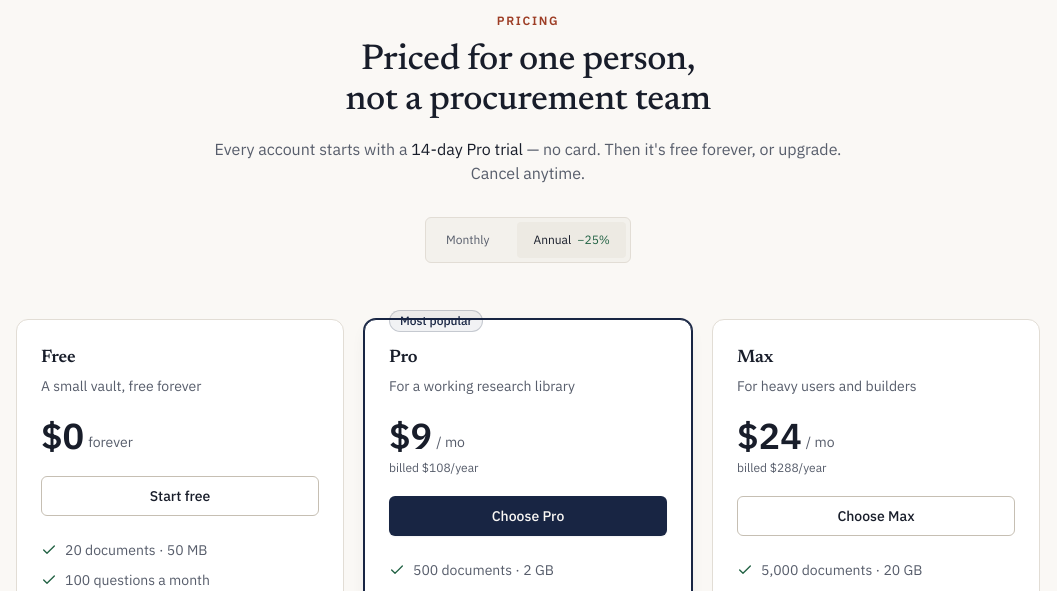
Scenario: Landing page › toggles annual / monthly pricing
(page scrolled)
What coordinates should you click on to do the following:
click the button "Monthly"
I would click on:
 (468, 240)
Its box is [430,222,506,258].
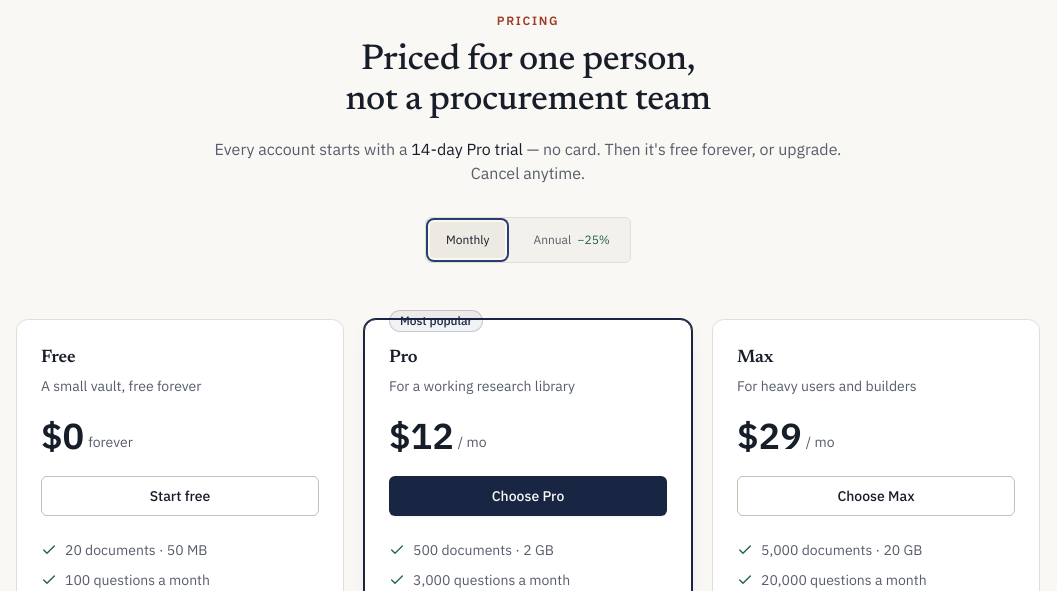
Check: the text "$12" is shown, box [389,416,454,456]
